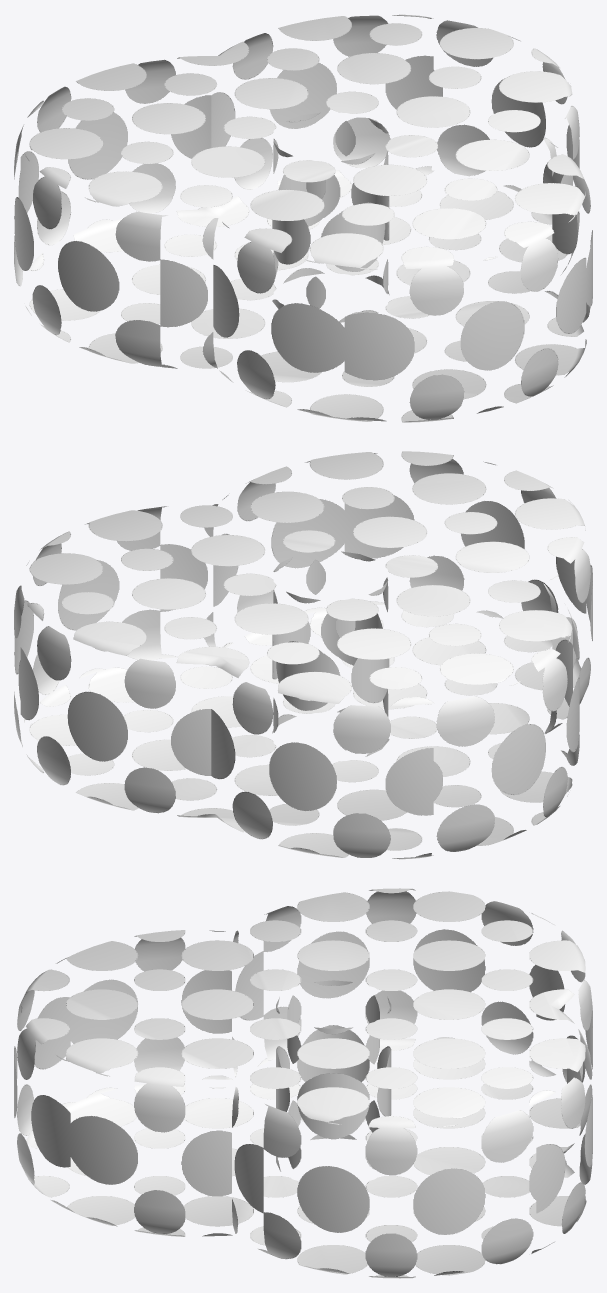
3 renders of one model, top to bottom at view 1: azimuth 30°, elevation 25°; view 2: azimuth 150°, elevation 25°; view 3: azimuth 270°, elevation 25°, orthographic. The views are drawn at different scales.
Parts seen in each view (by area): view 1: CloverOriginal.014; view 2: CloverOriginal.014; view 3: CloverOriginal.014.
Part boxes in pixels (x1,y1,x2,y2): CloverOriginal.014: [14, 14, 592, 422]; CloverOriginal.014: [14, 451, 592, 859]; CloverOriginal.014: [14, 888, 592, 1278].
Size of the model in its own units: 236 by 70.83 by 236.
